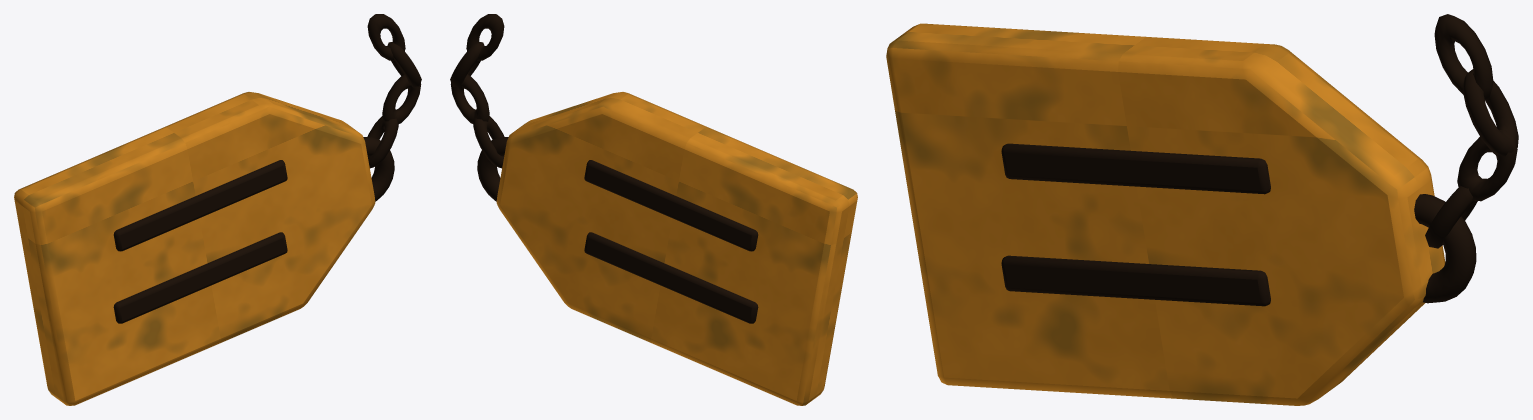
File: powerup_fire_sale.glb
The picture shows the model from 3 angles, left to right: view 1: azimuth 30°, elevation 25°; view 2: azimuth 150°, elevation 25°; view 3: azimuth 330°, elevation 25°; orthographic projection. The views are drawn at different scales.
Visible parts, largest first — view 1: FireSale; view 2: FireSale; view 3: FireSale.
Part boxes in pixels (box(x1,y1,x2,y2)): FireSale: box(14, 14, 421, 405); FireSale: box(450, 14, 857, 405); FireSale: box(886, 14, 1518, 405).
Size of the model in its own units: 0.4611 by 0.343 by 0.06.
Materials: 2 (2 with a texture image).
